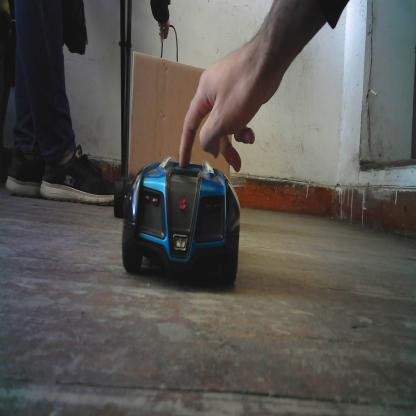LeadTruck: (123, 48, 236, 204)
